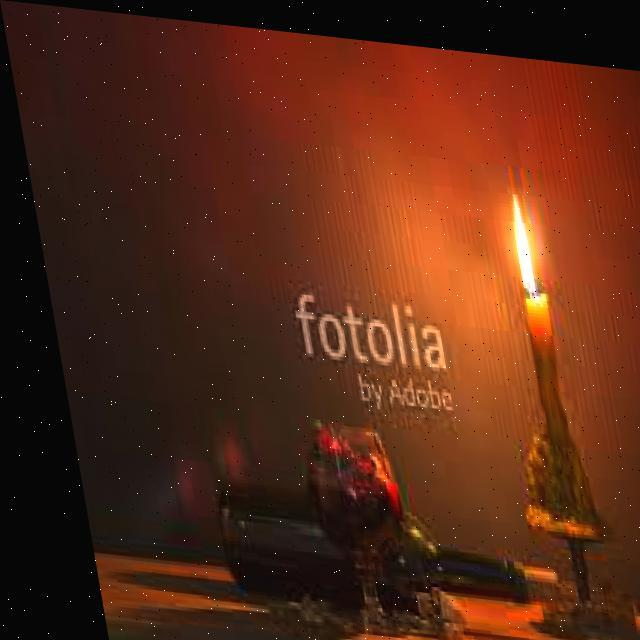Fire: (481, 173, 545, 290)
